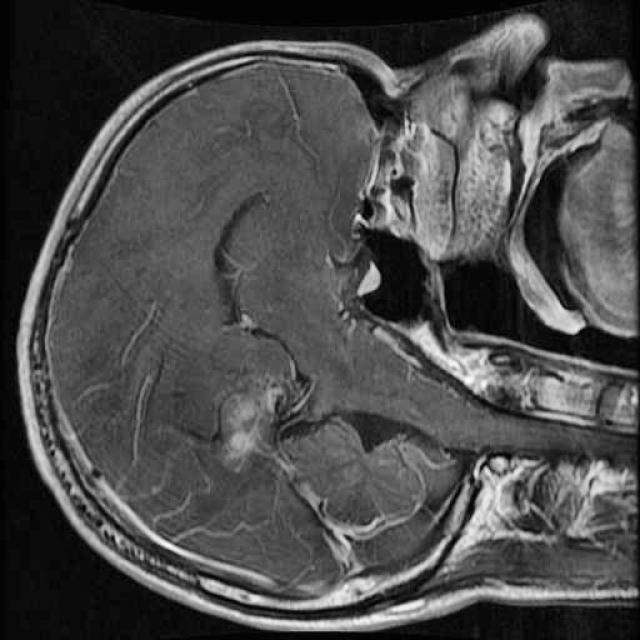Tumor: (204, 363, 312, 486)
